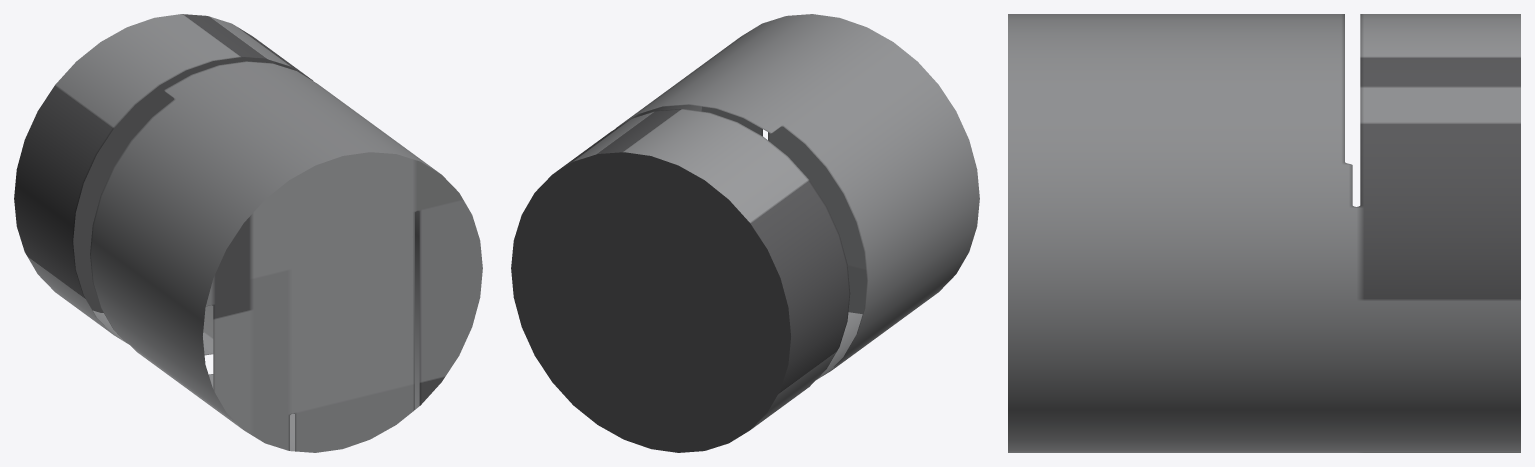
3 renders of one model, left to right at view 1: azimuth 30°, elevation 25°; view 2: azimuth 150°, elevation 25°; view 3: azimuth 270°, elevation 25°, orthographic. The views are drawn at different scales.
Size of the model in its own units: 0.613 by 0.613 by 0.7155.
